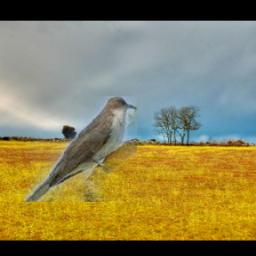Cuckoo: (23, 97, 136, 203)
